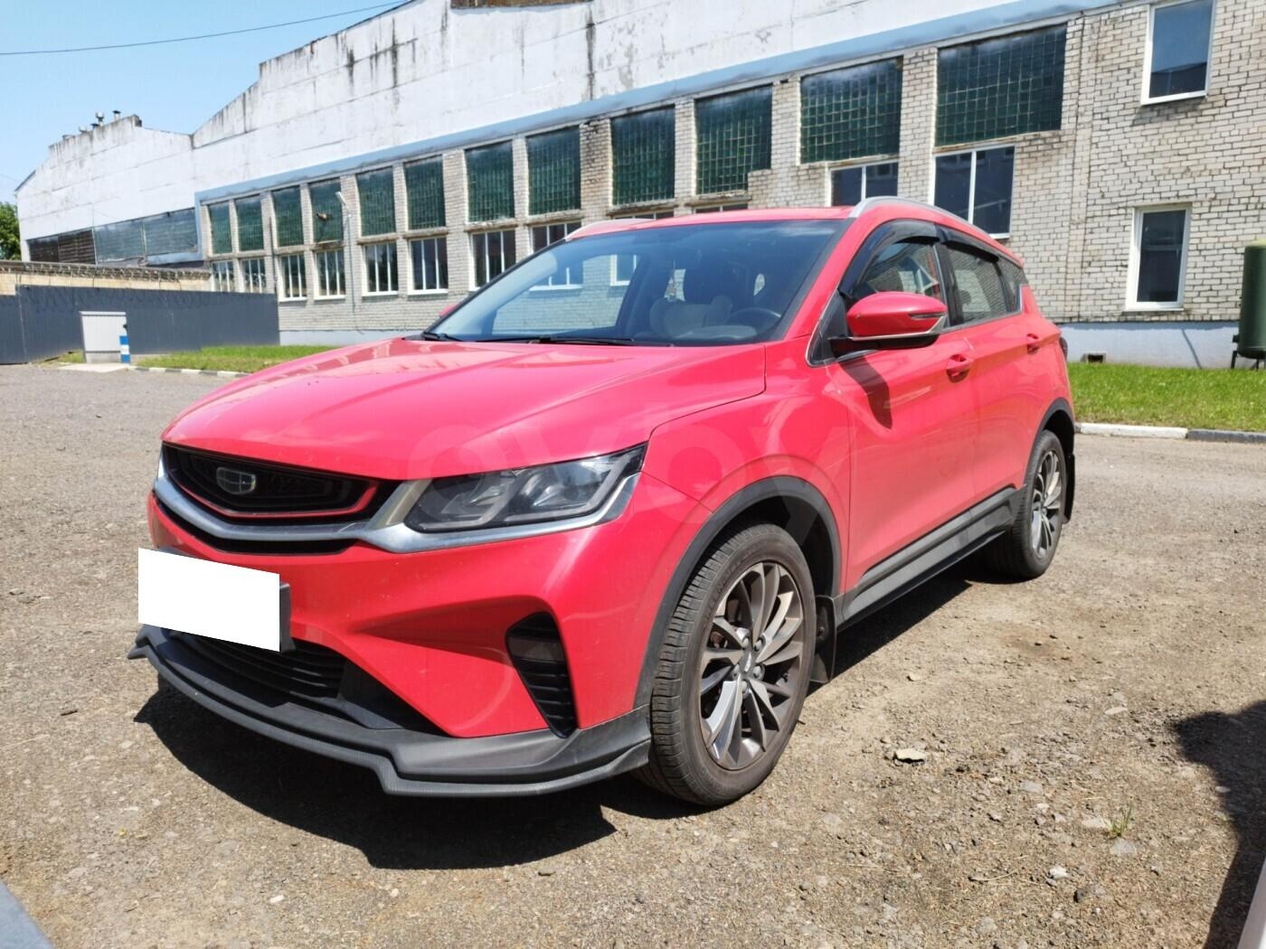Coolray_2019-2023: (124, 194, 1079, 807)
